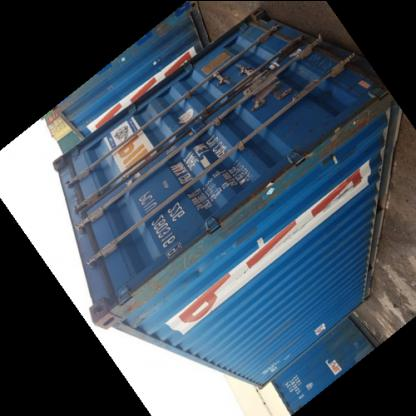Damage: (292, 96, 386, 169), (210, 157, 306, 225), (154, 224, 238, 282), (100, 268, 178, 326)
